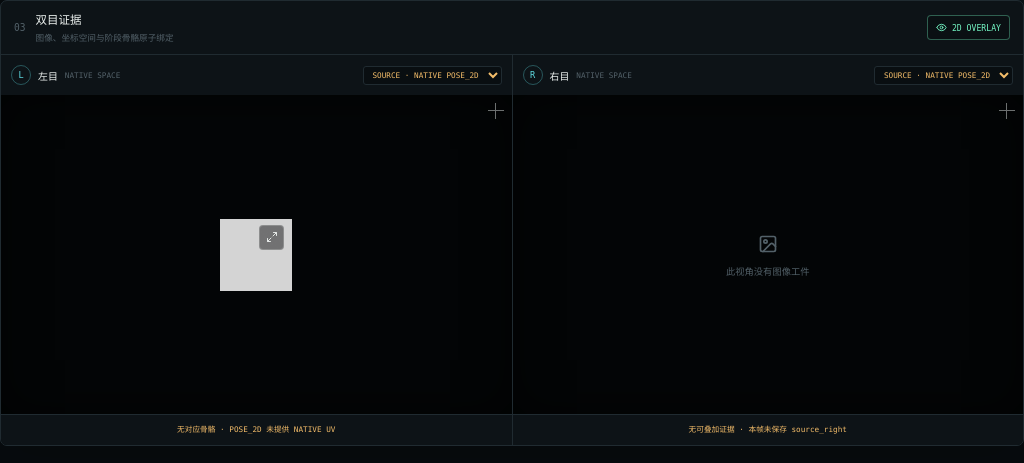
Test case: a projected layer without its own rectified frame never borrows the source background
Select "RECTIFIED · RAW_FUSION" in the dropdown named "左目证据层" at (432, 75), box [362,66,502,84]
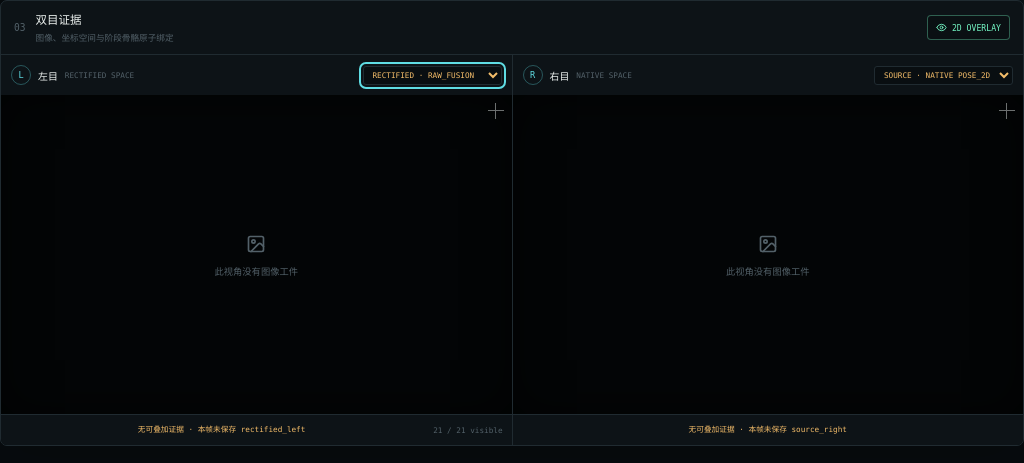
expect the text "无可叠加证据 · 本帧未保存 rectified_left" is shown: met, box [138,425,305,434]
